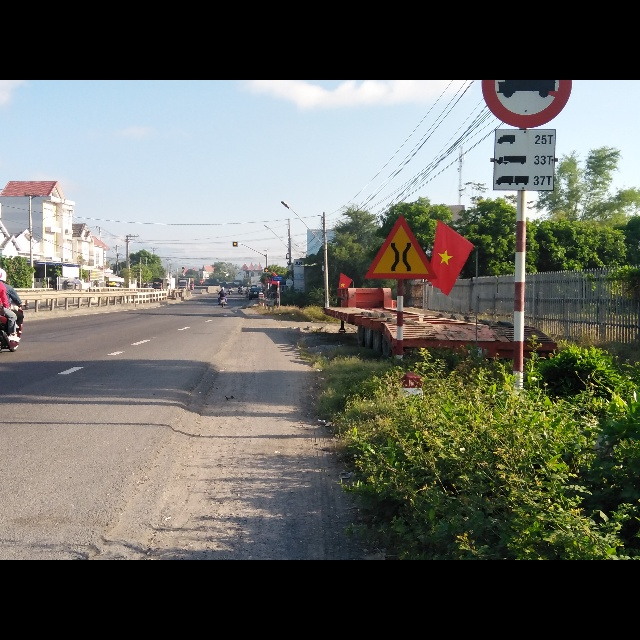Cầu hẹp: (362, 212, 443, 283)
